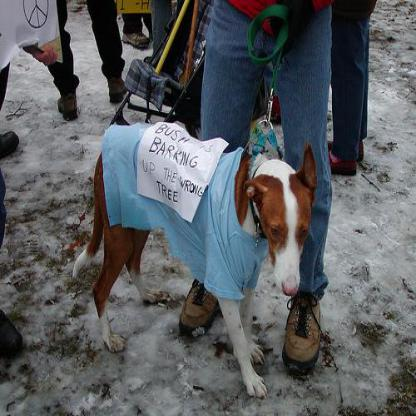dog: (86, 107, 321, 398)
